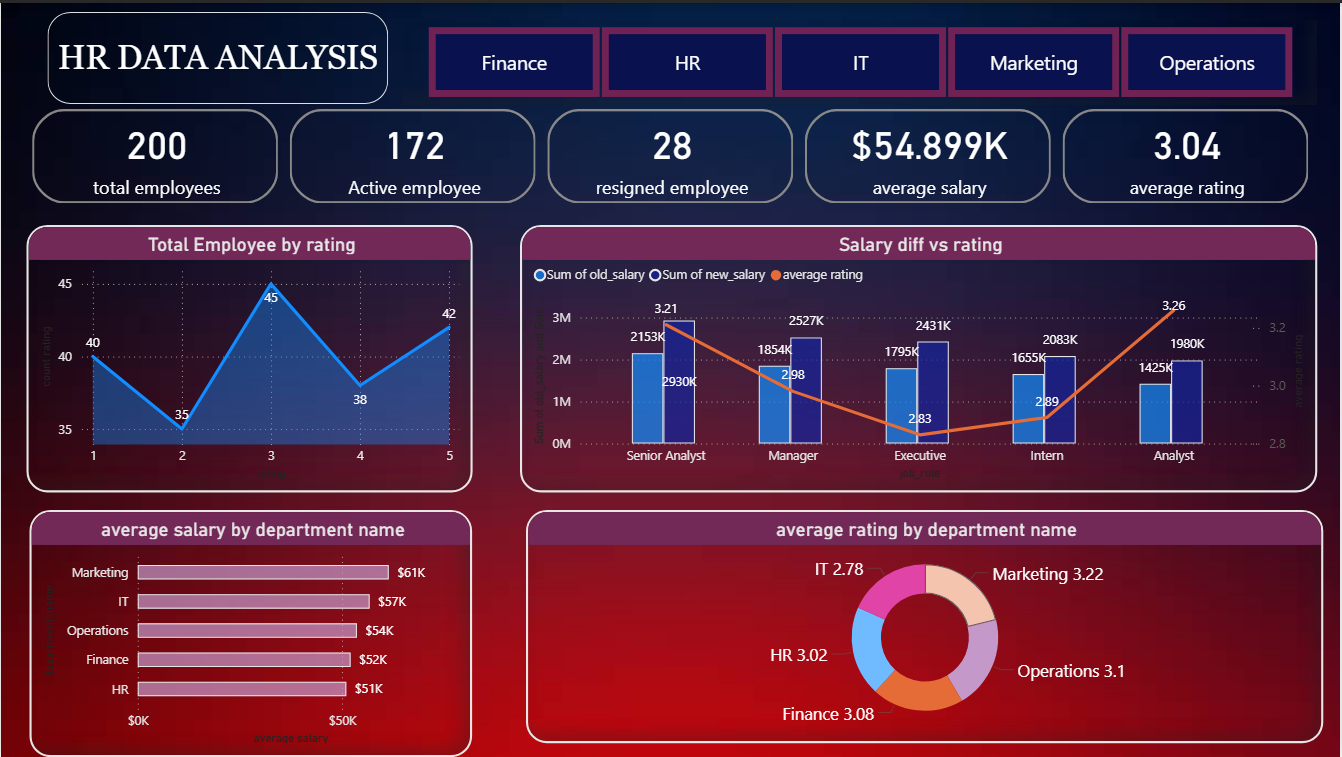

Layout of this report page (visuals, bound fields, positions):
{"tool":"powerbi","page":{"name":"Page 3","canvas":[1280,720],"ordinal":2},"visuals":[{"type":"slicer","fields":{"Values":["department.department_name"]},"box":[381.7,15.1,875,81.3],"z":0},{"type":"cardVisual","fields":{"Data":["employee_data.total employees","employee_data.Active employee","employee_data.resigned employee","employee_data.average salary","performance.average rating"]},"box":[24.4,96,1232.9,100.8],"z":1},{"type":"areaChart","title":"Total Employee by rating","fields":{"Category":["performance.rating"],"Y":["performance.count rating"]},"box":[24.4,211.5,426.2,255.4],"z":2},{"type":"barChart","title":"average salary by department name","fields":{"Y":["employee_data.average salary"],"Category":["department.department_name"]},"box":[27.7,484.7,422.9,235.8],"z":3},{"type":"lineClusteredColumnComboChart","title":"Salary diff vs rating","fields":{"Category":["employee_data.job_role"],"Y":["Sum(salary_history.old_salary)","Sum(salary_history.new_salary)"],"Y2":["performance.average rating"]},"box":[496.1,211.5,761.2,255.4],"z":4},{"type":"shape","box":[43.9,8.1,325.3,87.8],"z":5},{"type":"donutChart","title":"average rating by department name","fields":{"Category":["department.department_name"],"Y":["performance.average rating"]},"box":[501,484.7,761.2,222.8],"z":6}]}

Visuals, with their boxes in screenshot pixels (x1, y1, x2, y2), scaled from the page's 1280x720 canvas onto the 1342x757 screenshot:
slicer - department.department_name: BBox(400, 16, 1318, 101)
cardVisual - employee_data.total employees x employee_data.Active employee: BBox(26, 101, 1318, 207)
"Total Employee by rating" areaChart: BBox(26, 222, 472, 491)
"average salary by department name" barChart: BBox(29, 510, 472, 756)
"Salary diff vs rating" lineClusteredColumnComboChart: BBox(520, 222, 1318, 491)
shape: BBox(46, 9, 387, 101)
"average rating by department name" donutChart: BBox(525, 510, 1323, 744)
